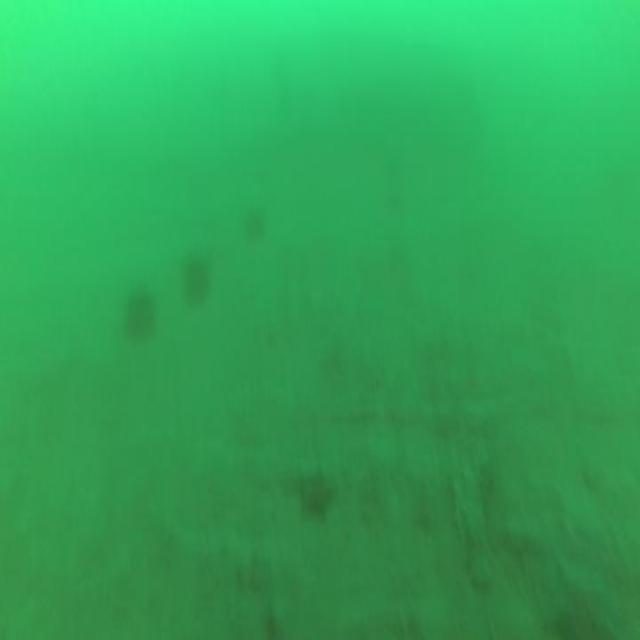echinus: (116, 280, 162, 348), (177, 248, 214, 315), (240, 201, 268, 243)
starfish: (296, 463, 340, 533)
